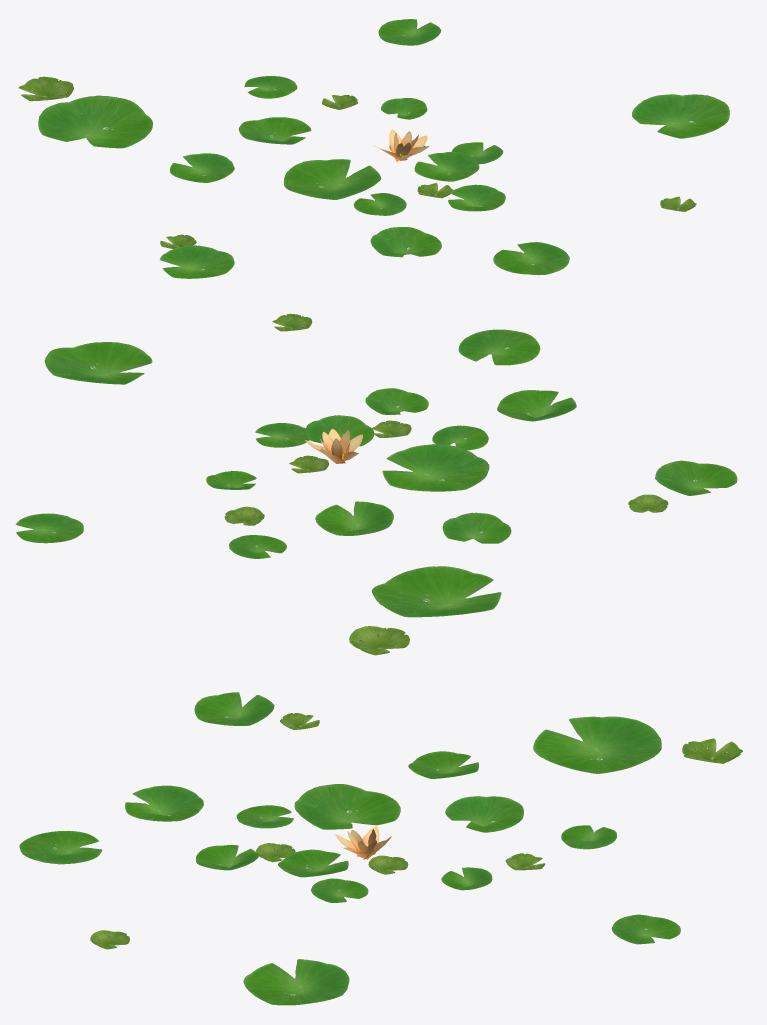
Rendered from Scene_cao_015.FBX.
The picture shows the model from 3 angles, top to bottom: view 1: azimuth 30°, elevation 25°; view 2: azimuth 150°, elevation 25°; view 3: azimuth 270°, elevation 25°; orthographic projection. The views are drawn at different scales.
Parts seen in each view (by area): view 1: Scene_cao_015; view 2: Scene_cao_015; view 3: Scene_cao_015.
Boxes of the visible parts, x1,y1,x2,y2 form: Scene_cao_015: (18, 19, 729, 278); Scene_cao_015: (15, 313, 737, 655); Scene_cao_015: (19, 692, 742, 1005).
Size of the model in its own units: 198 by 9.85 by 190.
